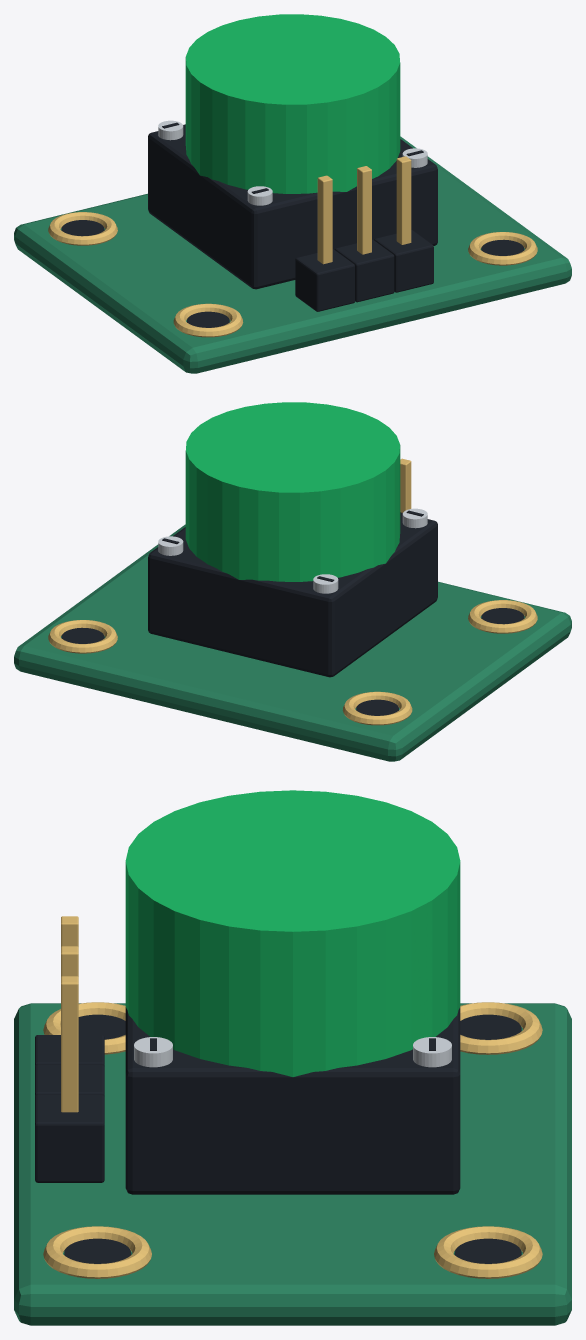
The model's file is push-button.glb.
The picture shows the model from 3 angles, top to bottom: view 1: azimuth 30°, elevation 25°; view 2: azimuth 150°, elevation 25°; view 3: azimuth 270°, elevation 25°; orthographic projection. The views are drawn at different scales.
Visible parts, largest first — view 1: Static body • greenPCB, Static body • green, Static body • black, Static body • gold, Static body • silver; view 2: Static body • greenPCB, Static body • green, Static body • black, Static body • gold, Static body • silver; view 3: Static body • greenPCB, Static body • green, Static body • black, Static body • gold, Static body • silver.
Boxes of the visible parts, <box> form: Static body • greenPCB: <box>14,136,571,373</box>; Static body • green: <box>185,14,400,193</box>; Static body • black: <box>61,122,524,327</box>; Static body • gold: <box>48,156,537,337</box>; Static body • silver: <box>158,120,427,205</box>; Static body • greenPCB: <box>14,524,571,761</box>; Static body • green: <box>185,402,400,581</box>; Static body • black: <box>61,510,524,715</box>; Static body • gold: <box>48,458,537,725</box>; Static body • silver: <box>158,508,427,593</box>; Static body • greenPCB: <box>14,1003,571,1325</box>; Static body • green: <box>125,790,460,1076</box>; Static body • black: <box>35,1007,521,1263</box>; Static body • gold: <box>43,916,542,1278</box>; Static body • silver: <box>134,1037,451,1067</box>.
Size of the model in its own units: 25 by 12.8 by 20.
